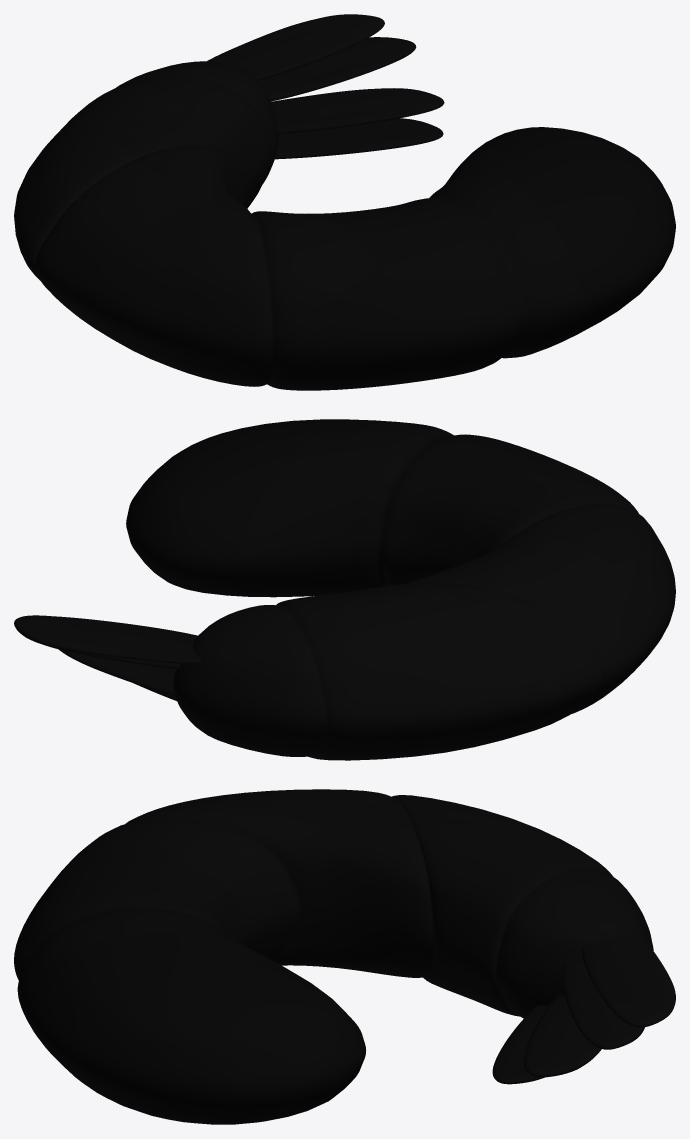
File: HH_BurntShrimp.fbx
3 renders of one model, top to bottom at view 1: azimuth 30°, elevation 25°; view 2: azimuth 150°, elevation 25°; view 3: azimuth 270°, elevation 25°, orthographic. The views are drawn at different scales.
Visible parts, largest first — view 1: Top.002, Bottom.002; view 2: Top.002, Bottom.002; view 3: Top.002, Bottom.002.
Part boxes in pixels (bbox=[...]): Top.002: bbox=[14, 14, 675, 349]; Bottom.002: bbox=[15, 88, 675, 390]; Top.002: bbox=[14, 419, 675, 724]; Bottom.002: bbox=[59, 525, 675, 760]; Top.002: bbox=[14, 789, 675, 1093]; Bottom.002: bbox=[14, 909, 601, 1124].
Bounding box in the file's own units: 115 × 30 × 119.
1 material, 1 textured.
